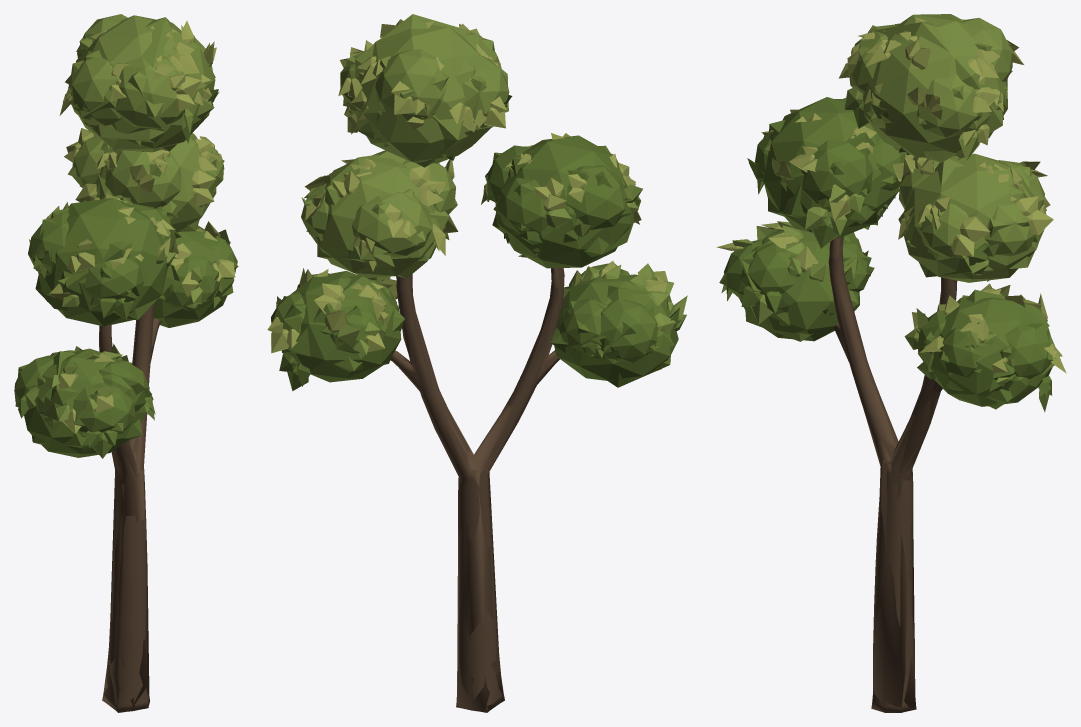
3 views of the same model, side by side, from view 1: azimuth 30°, elevation 25°; view 2: azimuth 150°, elevation 25°; view 3: azimuth 270°, elevation 25° (orthographic). The views are drawn at different scales.
Parts seen in each view (by area): view 1: L0-crown, L1-crown, L0-trunk, L1-trunk; view 2: L0-crown, L1-crown, L0-trunk, L1-trunk; view 3: L0-crown, L1-crown, L0-trunk, L1-trunk.
Boxes of the visible parts, x1=… form: L0-crown: x1=14, y1=14, x2=237, y2=458; L1-crown: x1=15, y1=17, x2=238, y2=456; L0-trunk: x1=99, y1=303, x2=159, y2=712; L1-trunk: x1=99, y1=303, x2=158, y2=711; L0-crown: x1=267, y1=20, x2=687, y2=390; L1-crown: x1=271, y1=14, x2=685, y2=389; L0-trunk: x1=390, y1=162, x2=564, y2=712; L1-trunk: x1=391, y1=268, x2=564, y2=711; L0-crown: x1=716, y1=14, x2=1066, y2=412; L1-crown: x1=717, y1=21, x2=1060, y2=409; L0-trunk: x1=829, y1=237, x2=956, y2=712; L1-trunk: x1=828, y1=237, x2=957, y2=707.
Size of the model in its own units: 2.96 by 6.32 by 2.84.
